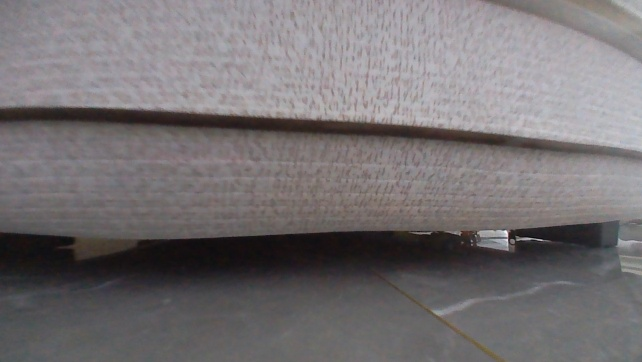sofa1: (0, 0, 641, 249)
